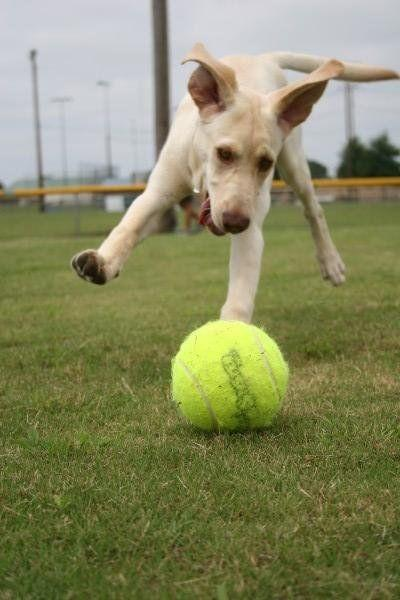puppy-dog: (69, 40, 400, 326)
